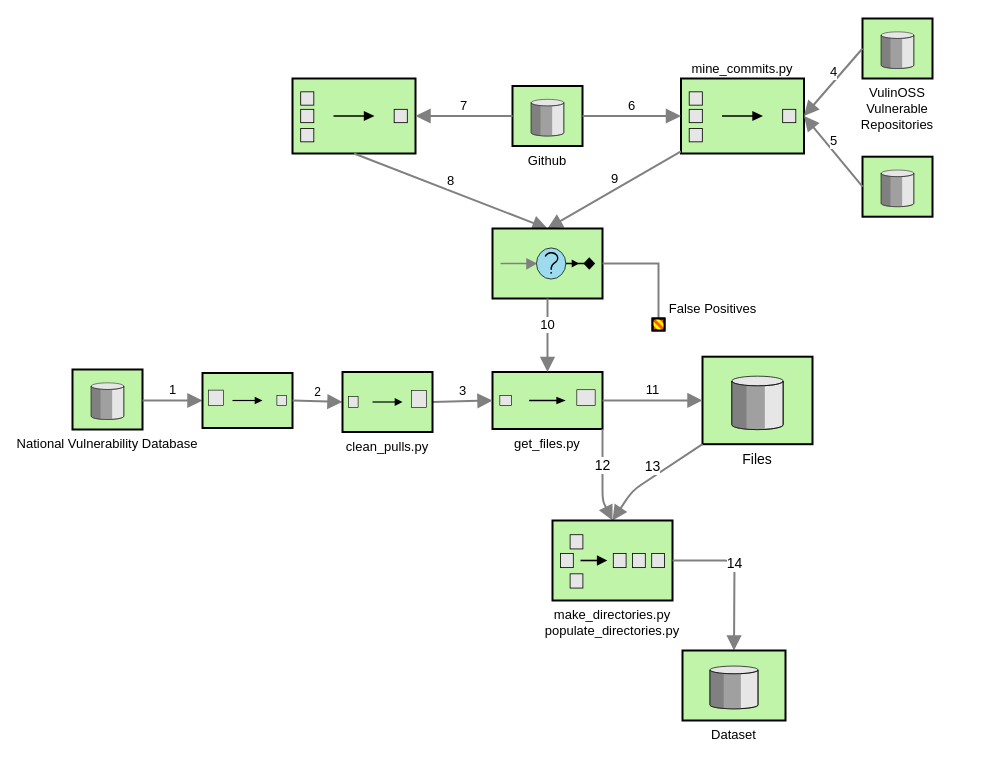
This 991x759 diagram has some shape labels left out. The box of each missing label's shape, as (x1, y1, x2, y2) in pixels:
Generated Repository List: (861, 155, 933, 217)
parse_nvd.py: (201, 372, 293, 428)
search_commits.py: (291, 77, 416, 154)
sieve.py: (491, 227, 603, 299)
